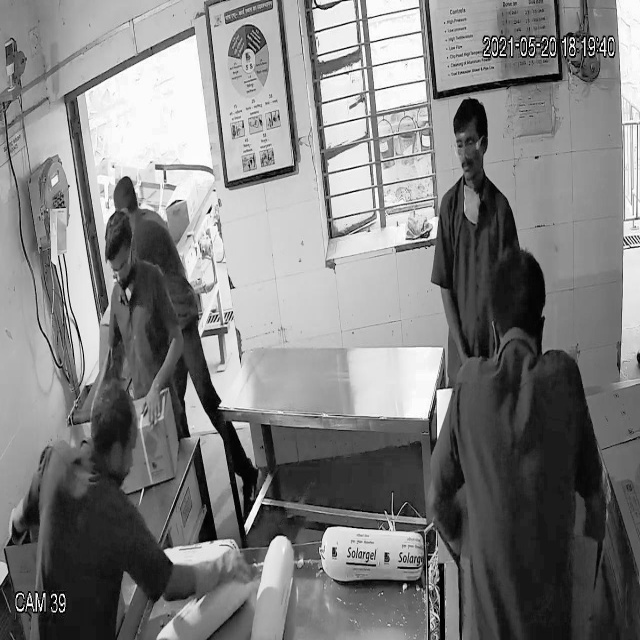Gafas: (448, 134, 487, 159)
